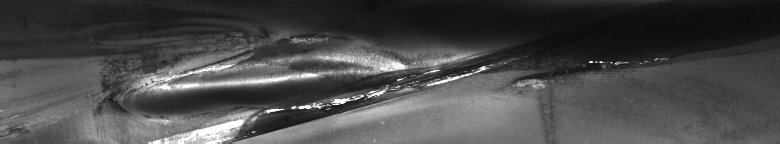ke: (98, 32, 669, 136)
